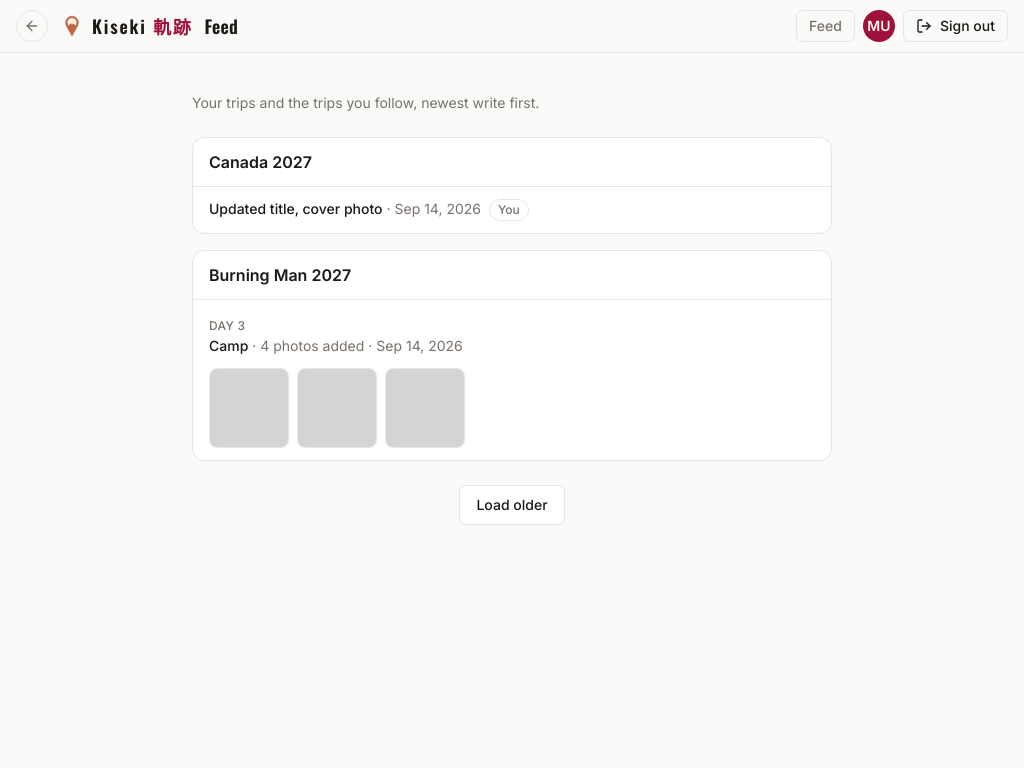
FeedPage — the feed itself › pages older rows through ?before= and appends them
Step 1. Click the button "Load older" → (512, 505), box [459,485,564,525]
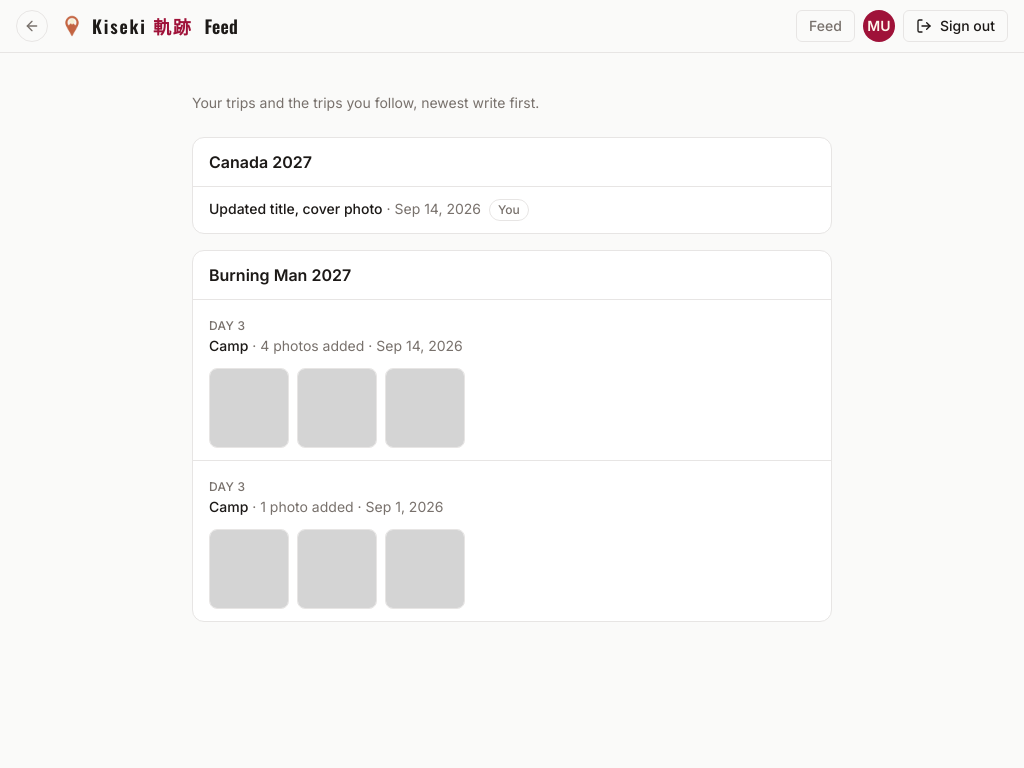
Expected: the text "4 photos added" is shown, [248,337,364,354]
Expected: the text "1 photo added" is shown, [248,498,354,515]
